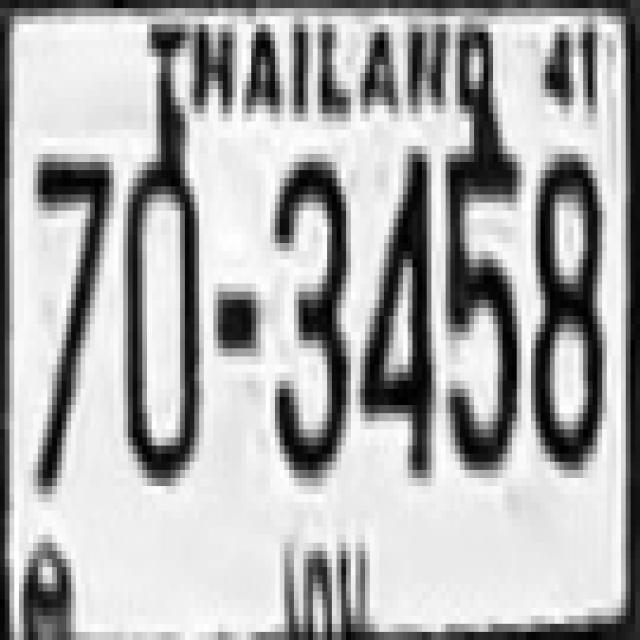0: (119, 138, 199, 478)
3: (270, 154, 346, 470)
4: (356, 142, 432, 466)
5: (443, 121, 519, 462)
7: (33, 146, 109, 486)
8: (526, 146, 598, 462)
Loei: (269, 515, 372, 640)
